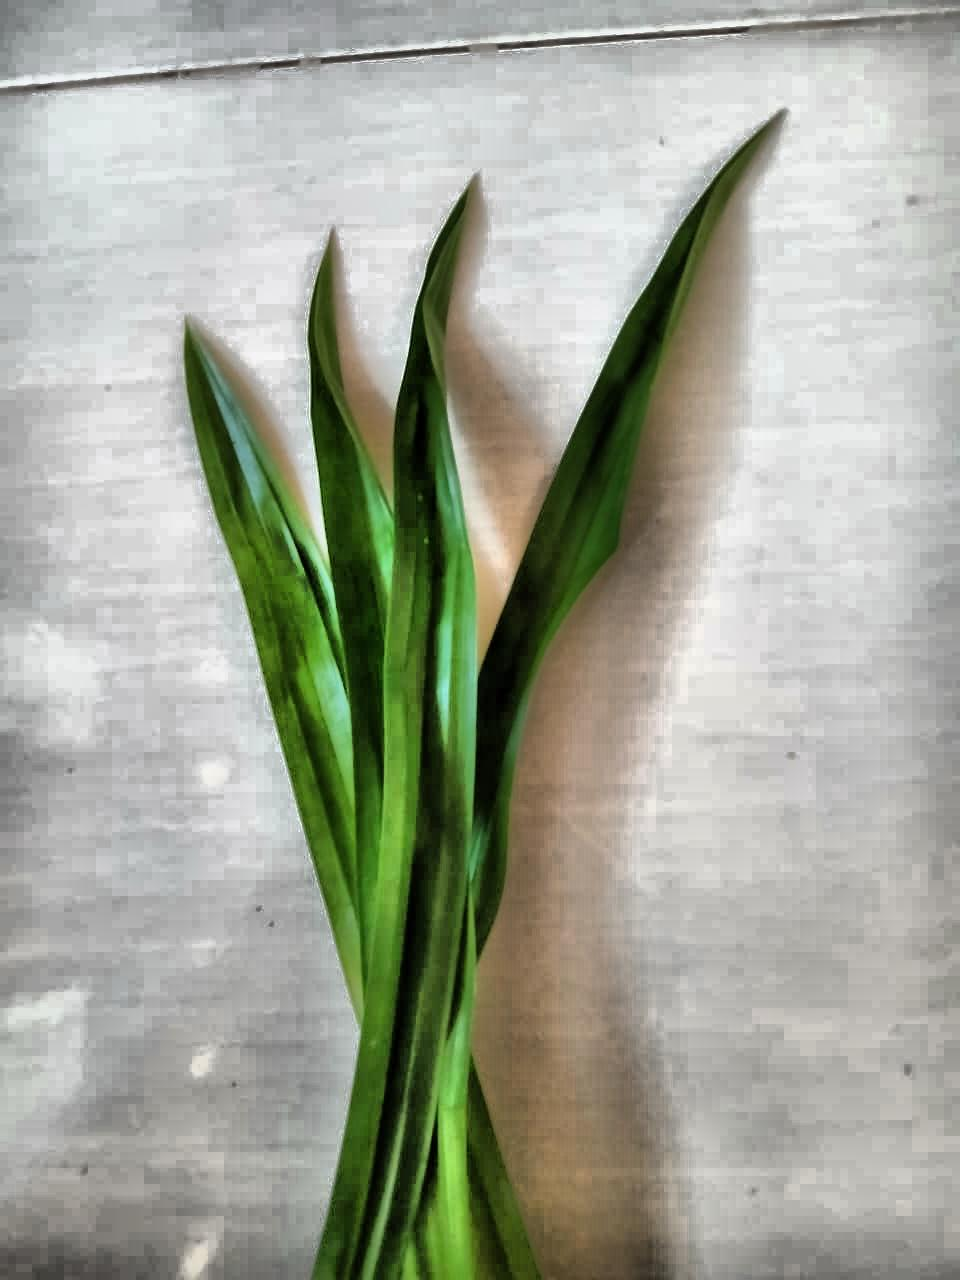daun pandan: (184, 122, 772, 1279)
